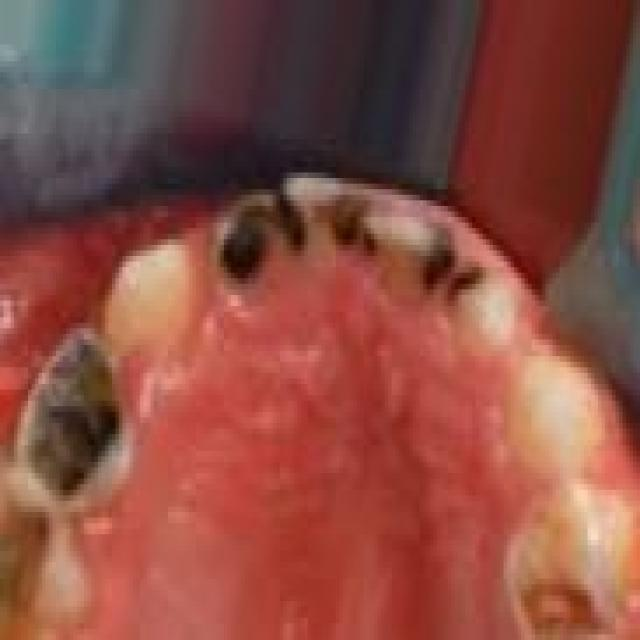caries: (511, 477, 631, 640), (14, 330, 124, 498), (341, 173, 441, 284), (208, 187, 286, 293), (4, 484, 63, 618), (272, 171, 349, 263), (430, 219, 495, 323)
